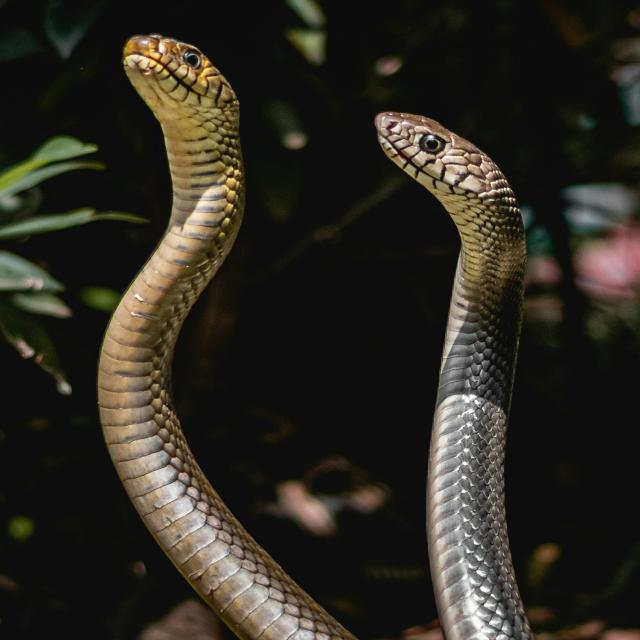snake: (94, 30, 640, 640)
